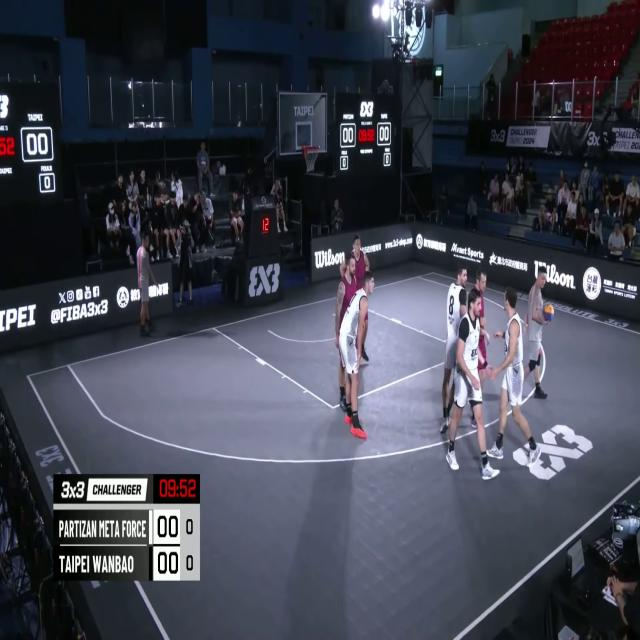ball: (541, 302, 555, 324)
hoop: (300, 142, 320, 175)
player: (444, 286, 500, 482), (486, 280, 541, 467), (338, 272, 376, 442), (441, 264, 467, 432), (336, 255, 358, 416), (348, 233, 373, 360), (470, 270, 490, 418)
